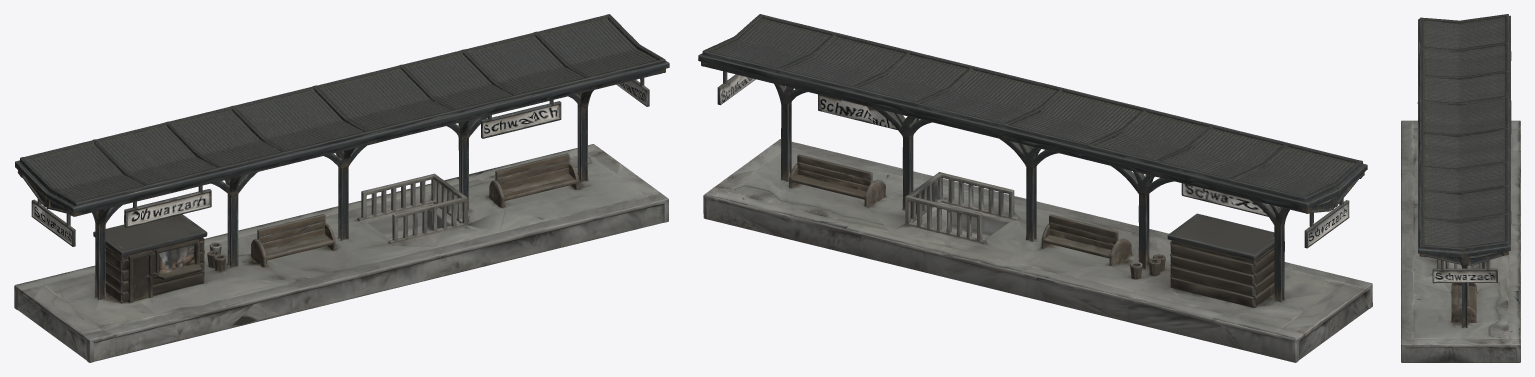
Rendered from FALLER_222124_CANOPY_RUNTIME_v001.glb.
3 renders of one model, left to right at view 1: azimuth 30°, elevation 25°; view 2: azimuth 150°, elevation 25°; view 3: azimuth 270°, elevation 25°, orthographic. The views are drawn at different scales.
Visible parts, largest first — view 1: Mesh_0; view 2: Mesh_0; view 3: Mesh_0.
Boxes of the visible parts, left/top/right/bottom form: Mesh_0: left=14, top=14, right=669, bottom=362; Mesh_0: left=698, top=14, right=1372, bottom=362; Mesh_0: left=1401, top=14, right=1520, bottom=362.
Bounding box in the file's own units: 0.1633 × 0.041 × 0.0358.
Materials: 1 (1 with a texture image).
